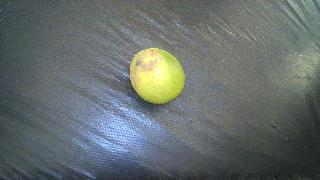DESECHO: (129, 48, 185, 104)
